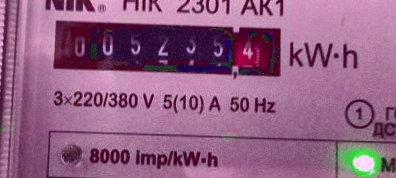0: (71, 33, 87, 59), (100, 31, 114, 56)
2: (155, 31, 169, 57)
3: (183, 30, 197, 55)
4: (240, 35, 255, 61)
5: (210, 31, 225, 59), (127, 31, 142, 57)
screen: (43, 11, 293, 85)
